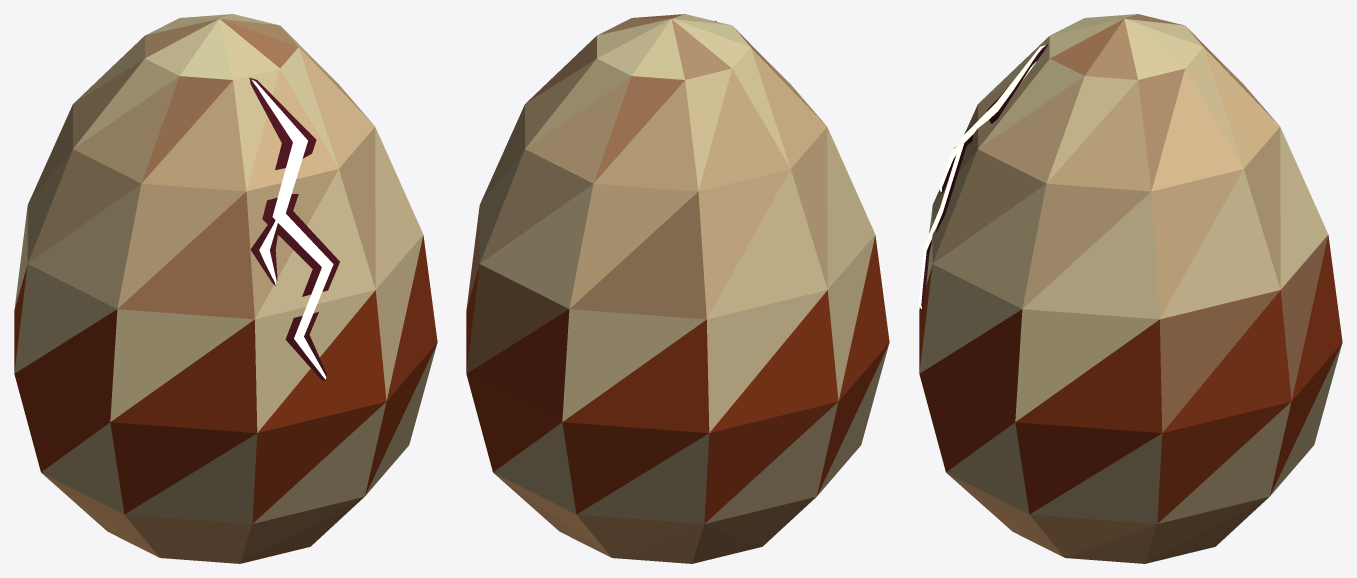
Rendered from kaiju_egg.glb.
3 renders of one model, left to right at view 1: azimuth 30°, elevation 25°; view 2: azimuth 150°, elevation 25°; view 3: azimuth 270°, elevation 25°, orthographic.
Parts seen in each view (by area): view 1: kaiju_egg, egg_glow; view 2: kaiju_egg; view 3: kaiju_egg, egg_glow.
Part boxes in pixels (x1,y1,x2,y2): kaiju_egg: [14, 14, 437, 563]; egg_glow: [251, 79, 333, 379]; kaiju_egg: [466, 14, 889, 563]; kaiju_egg: [919, 14, 1342, 563]; egg_glow: [918, 45, 1045, 308].
Size of the model in its own units: 0.7583 by 1 by 0.7485.
